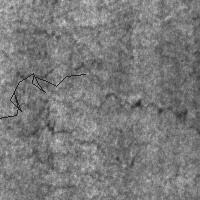crazing: (44, 120, 178, 173), (58, 82, 195, 133), (0, 49, 85, 120), (1, 65, 75, 138), (7, 144, 79, 188)
